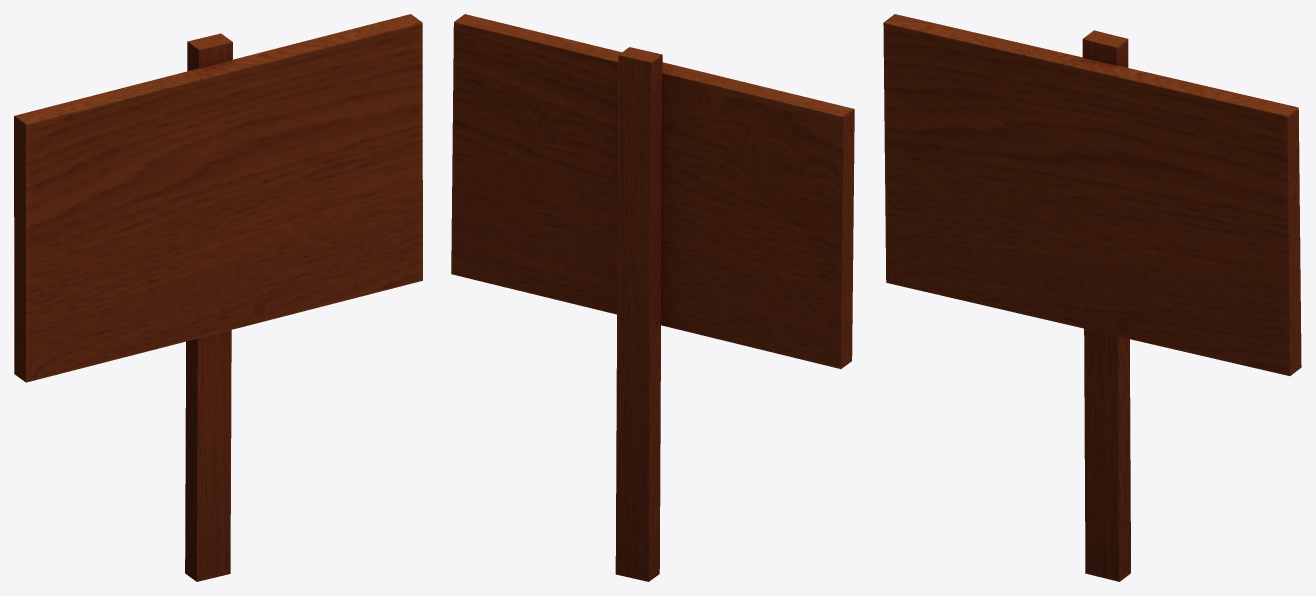
Rendered from SignPost.glb.
3 renders of one model, left to right at view 1: azimuth 30°, elevation 25°; view 2: azimuth 150°, elevation 25°; view 3: azimuth 330°, elevation 25°, orthographic. The views are drawn at different scales.
Visible parts, largest first — view 1: Cube.001; view 2: Cube.001; view 3: Cube.001.
Boxes of the visible parts, x1,y1,x2,y2 form: Cube.001: (14, 14, 422, 581); Cube.001: (451, 14, 854, 581); Cube.001: (883, 14, 1301, 581).
Size of the model in its own units: 1.41 by 1.8 by 0.1637.
1 material, 1 textured.
